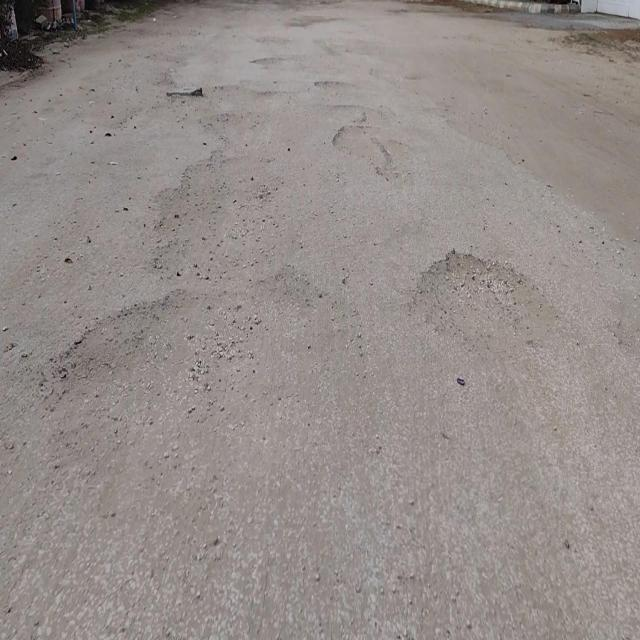Potholes: (411, 250, 559, 368), (330, 123, 394, 178)
